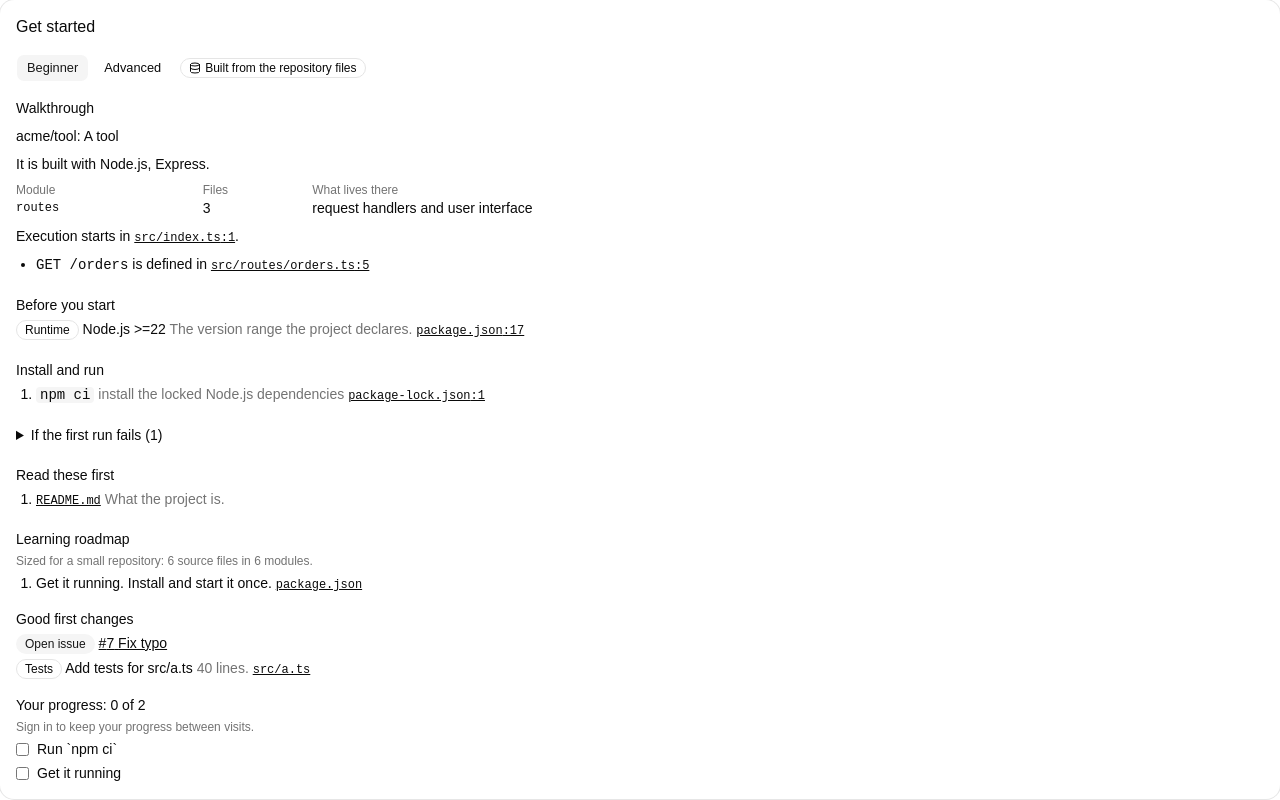
Test: Get started panel › shows setup steps with links to the files they came from and switches mode
The image size is (1280, 800).
Expected: the text "npm ci" is shown, x1=36 y1=387 x2=94 y2=403
Expected: the text "Built from the repository files" is shown, x1=180 y1=58 x2=366 y2=78
# Anonymous ticks stay on the page.
Click the checkbox labelled "Run `npm ci`" at [22, 750], box x1=16 y1=743 x2=29 y2=756
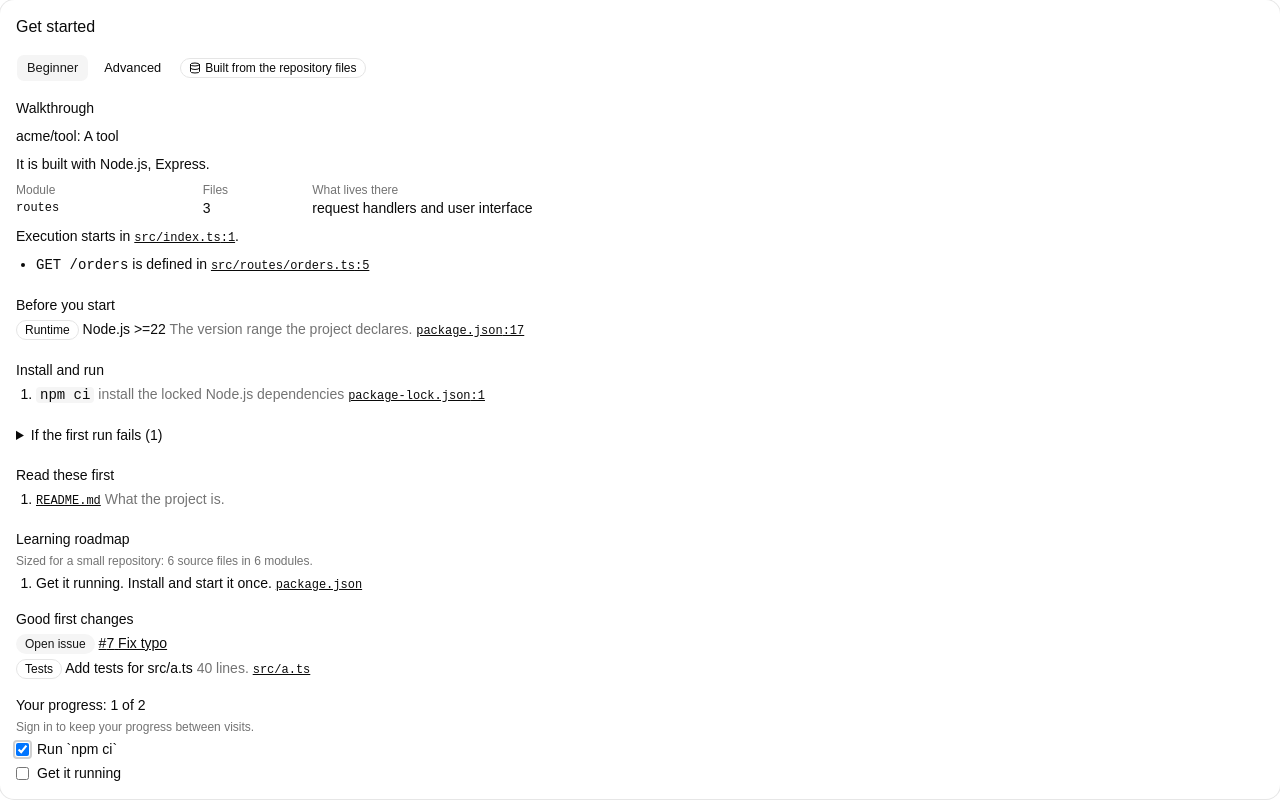
Expected: the text "Sign in to keep your progress between visits." is shown, x1=16 y1=720 x2=254 y2=734
Expected: the heading "Your progress: 1 of 2" is shown, x1=16 y1=697 x2=146 y2=713
Click the button "Advanced" at [133, 68], box x1=93 y1=54 x2=172 y2=82
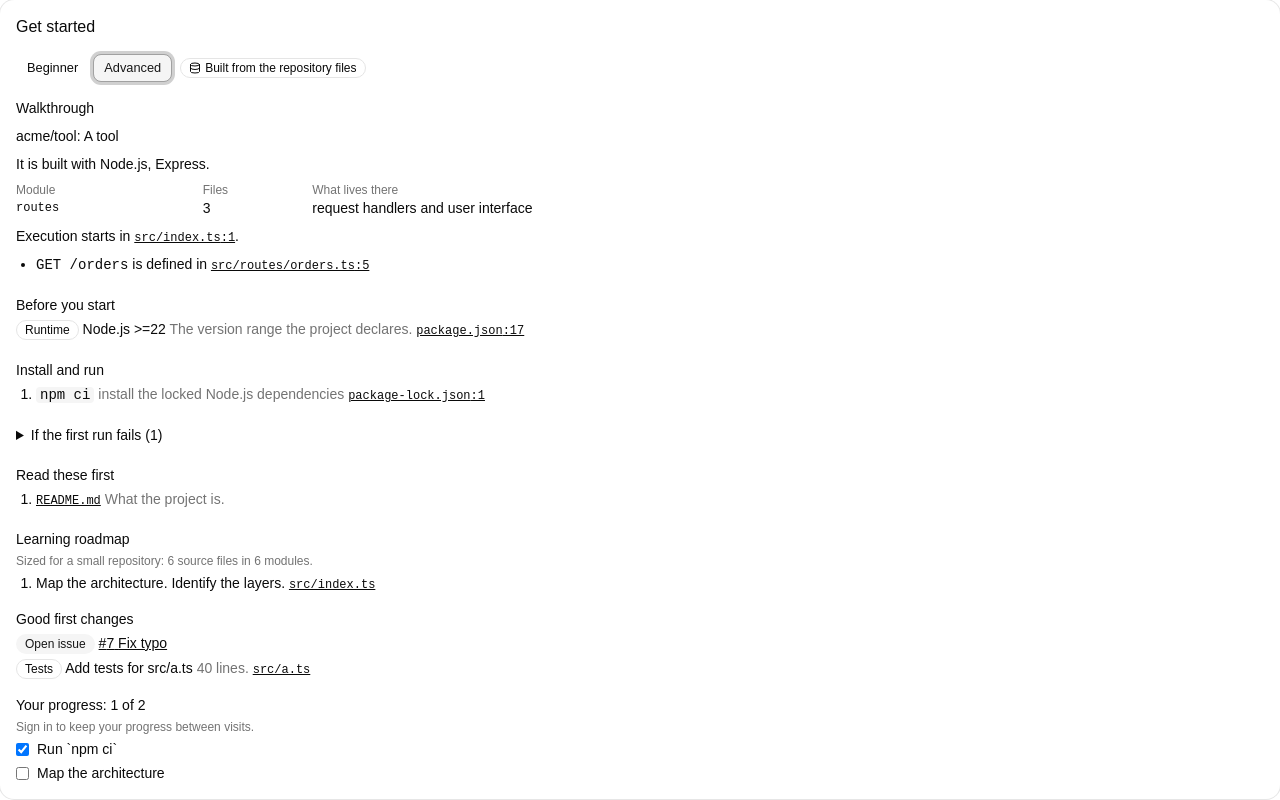
Expected: the text "Map the architecture." is shown, x1=36 y1=575 x2=168 y2=591
